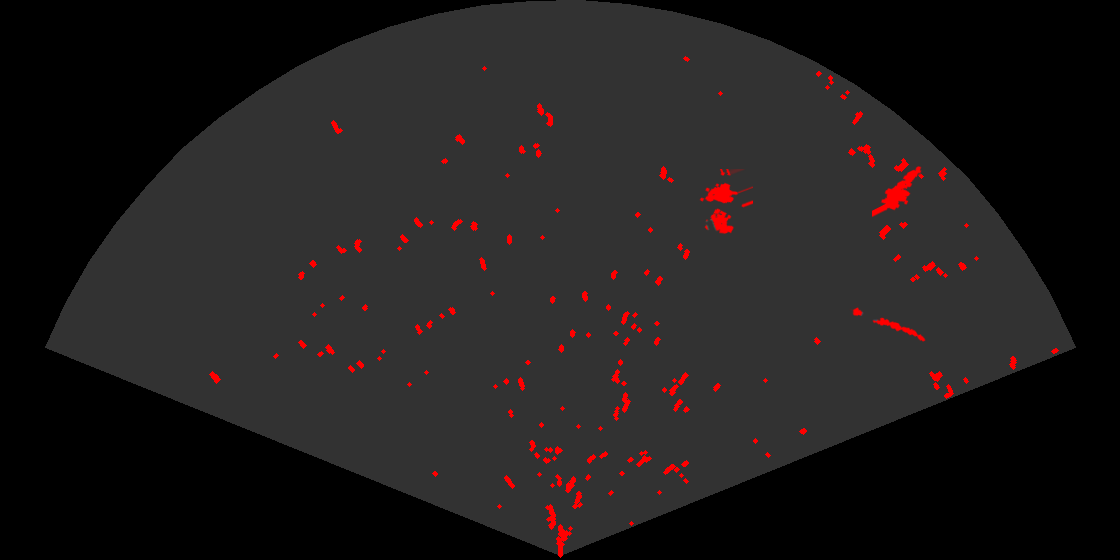cage: (698, 169, 753, 236)
chain: (849, 306, 927, 343)
frogman: (872, 165, 923, 219)
